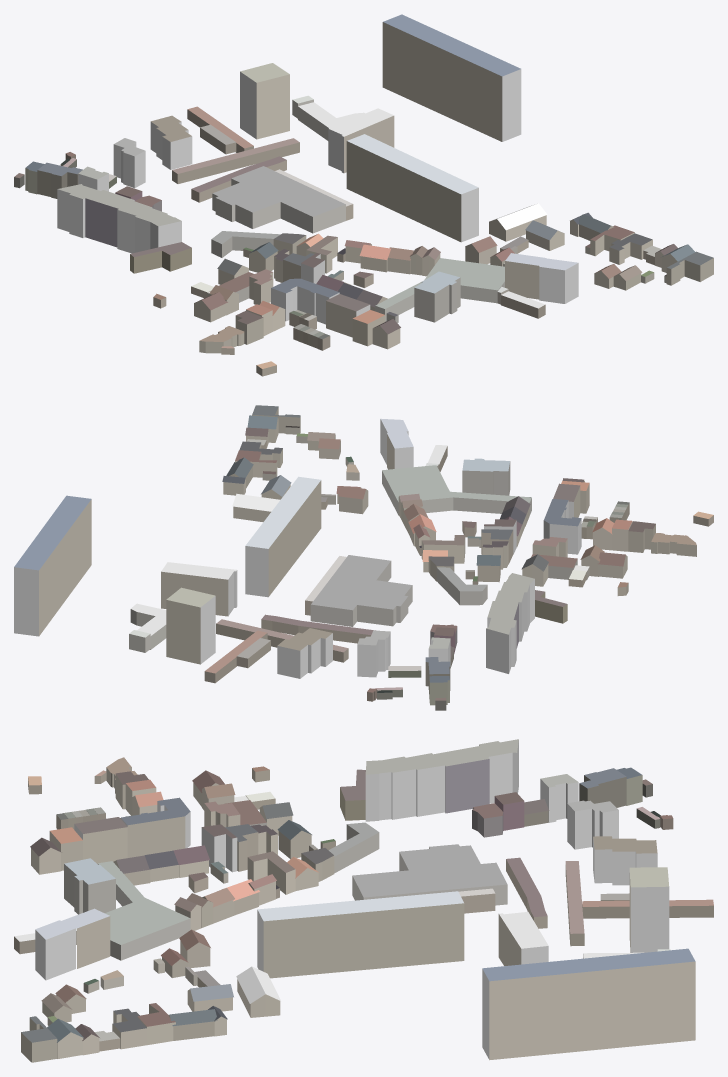
The picture shows the model from 3 angles, top to bottom: view 1: azimuth 30°, elevation 25°; view 2: azimuth 150°, elevation 25°; view 3: azimuth 270°, elevation 25°; orthographic projection. The views are drawn at different scales.
Parts seen in each view (by area): view 1: tuile; view 2: tuile; view 3: tuile.
Boxes of the visible parts, box(x1,y1,x2,y2) form: tuile: box(14, 14, 713, 376); tuile: box(14, 405, 713, 710); tuile: box(14, 739, 713, 1062).
Bounding box in the file's own units: 255 × 34.48 × 270.
